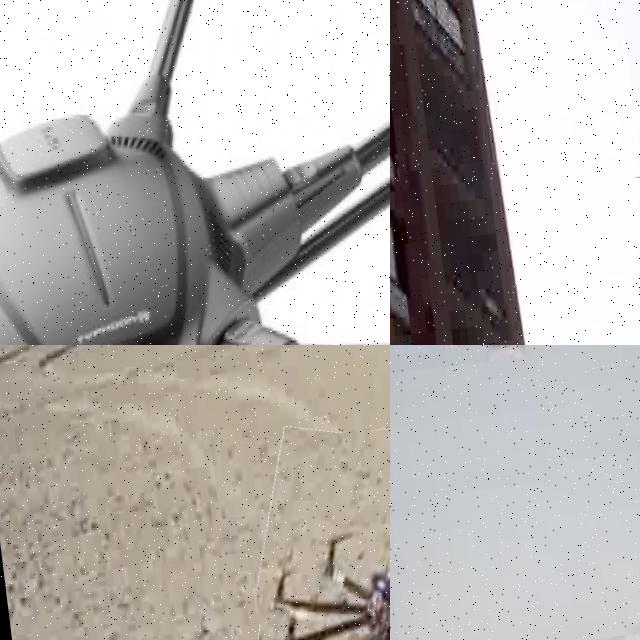drone: (0, 0, 390, 345), (237, 409, 390, 640), (625, 89, 640, 178)
